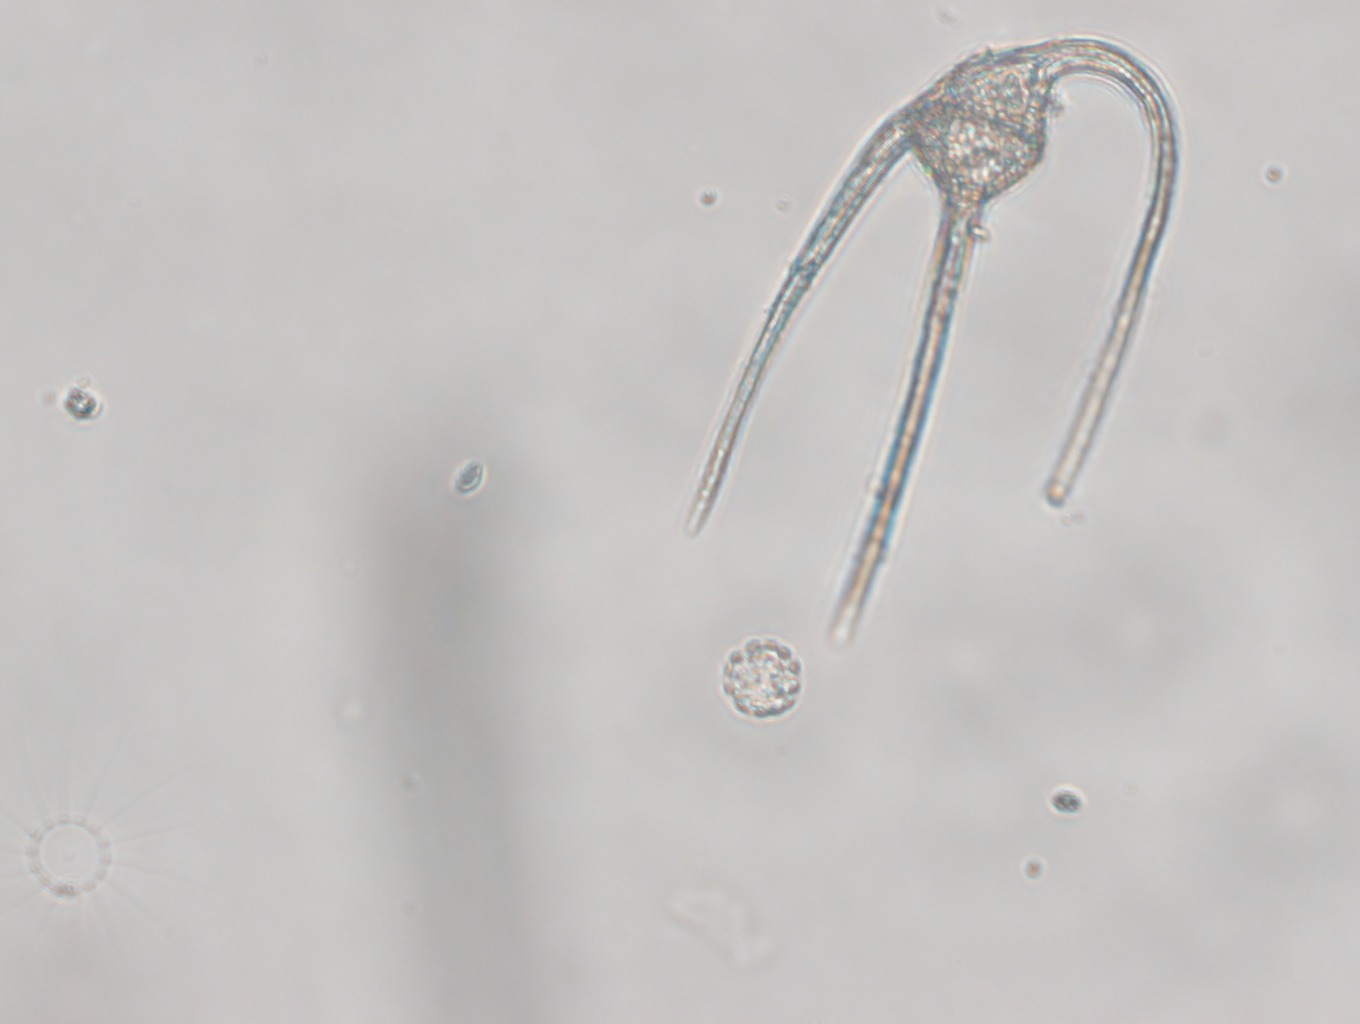ceratium trichoceros: (685, 35, 1185, 652)
